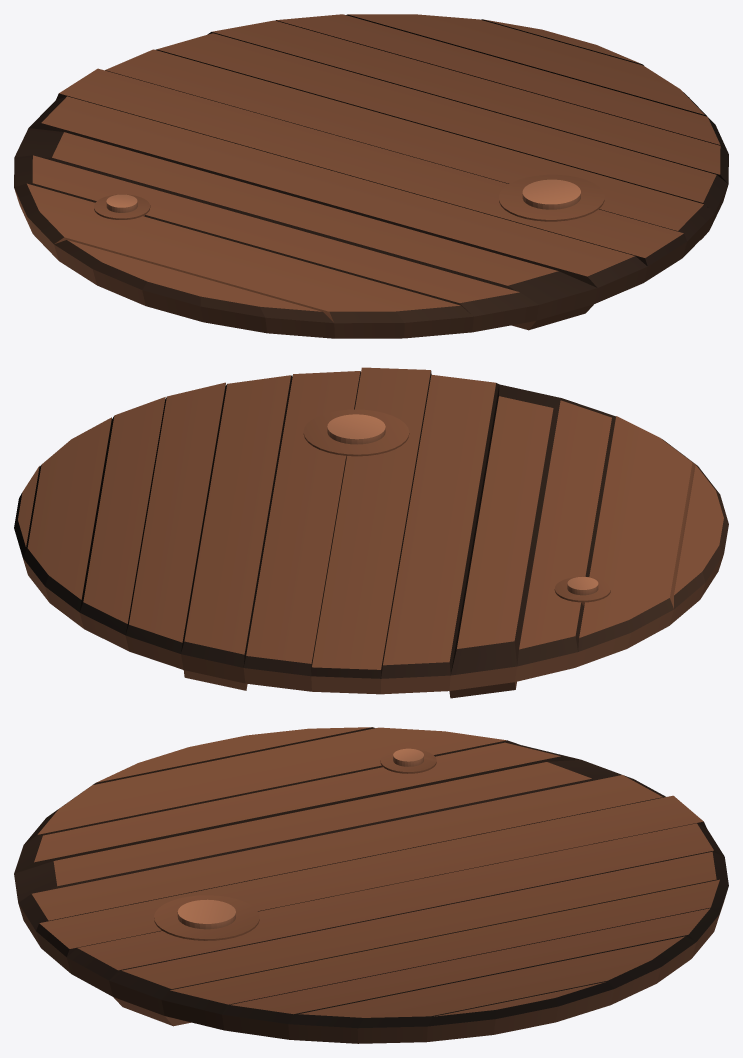
Rendered from Large Med Barrel Lid.fbx.
3 renders of one model, top to bottom at view 1: azimuth 30°, elevation 25°; view 2: azimuth 150°, elevation 25°; view 3: azimuth 270°, elevation 25°, orthographic.
Visible parts, largest first — view 1: Large Med Barrel Lid; view 2: Large Med Barrel Lid; view 3: Large Med Barrel Lid.
Boxes of the visible parts, x1,y1,x2,y2 form: Large Med Barrel Lid: (14, 14, 728, 338); Large Med Barrel Lid: (14, 367, 728, 698); Large Med Barrel Lid: (14, 727, 728, 1043).
Bounding box in the file's own units: 22.75 × 310 × 310.
Materials: 1 (1 with a texture image).
